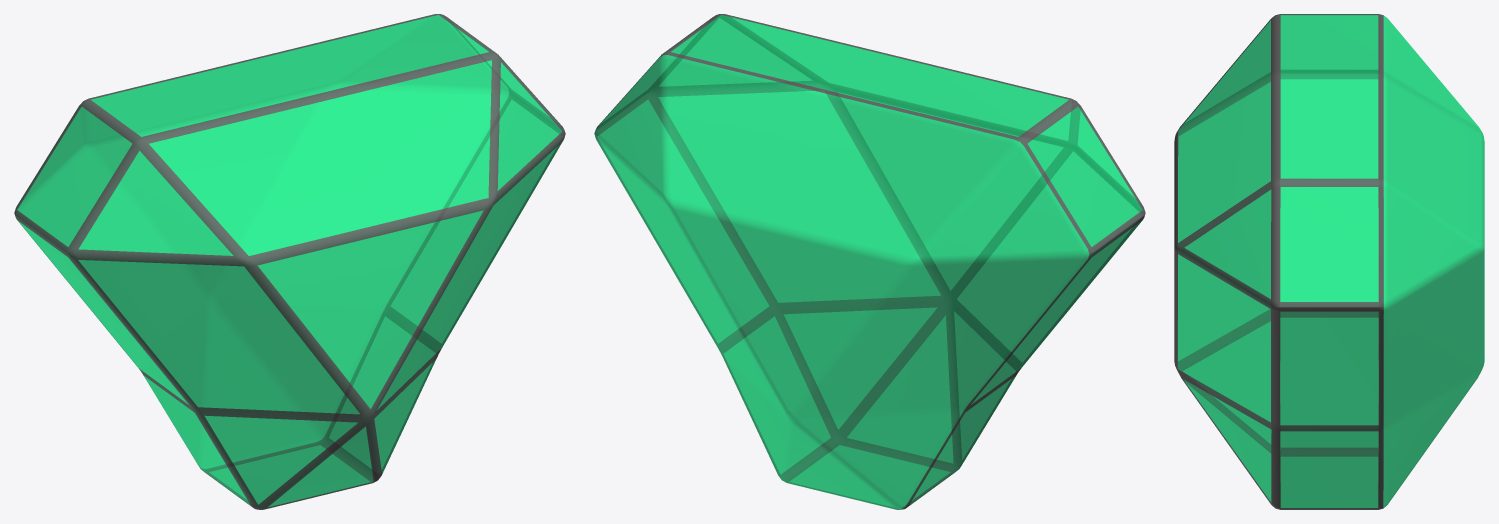
Rendered from Emerald Jewell.fbx.
The picture shows the model from 3 angles, left to right: view 1: azimuth 30°, elevation 25°; view 2: azimuth 150°, elevation 25°; view 3: azimuth 270°, elevation 25°; orthographic projection. The views are drawn at different scales.
Parts seen in each view (by area): view 1: Emerald_Golem2_emerald.001; view 2: Emerald_Golem2_emerald.001; view 3: Emerald_Golem2_emerald.001.
Boxes of the visible parts, bbox=[...] form: Emerald_Golem2_emerald.001: bbox=[14, 14, 565, 509]; Emerald_Golem2_emerald.001: bbox=[594, 14, 1145, 509]; Emerald_Golem2_emerald.001: bbox=[1174, 14, 1484, 509].
Size of the model in its own units: 1080 by 832 by 607.
